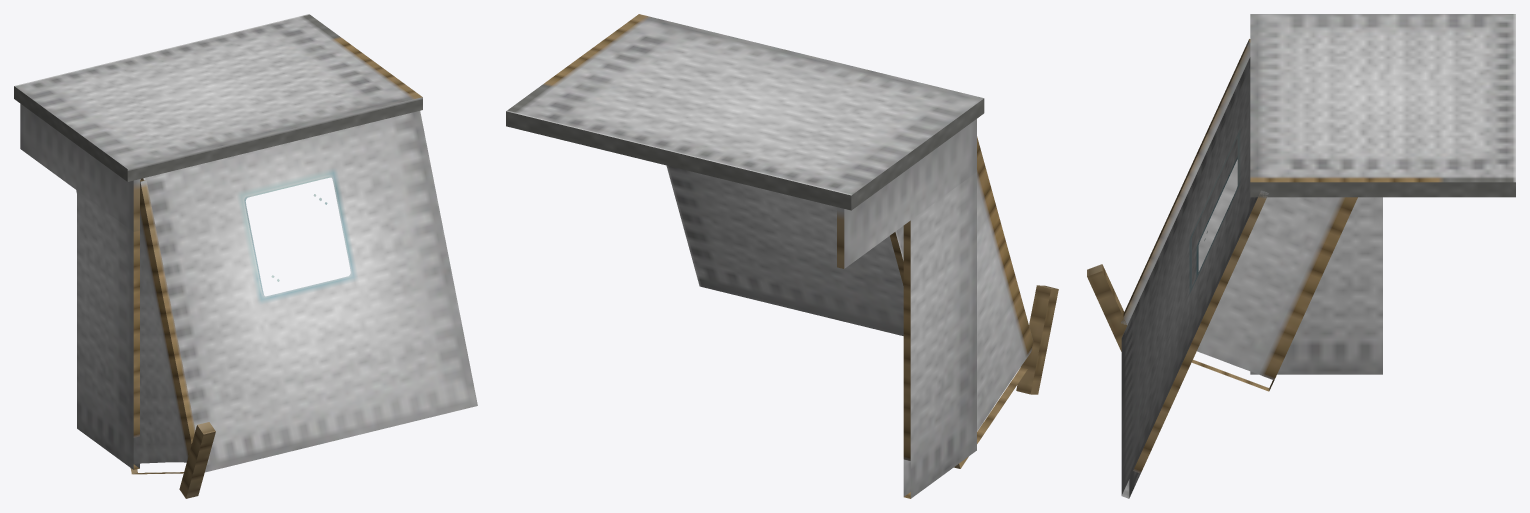
Rendered from tentPart4.obj.
3 renders of one model, left to right at view 1: azimuth 30°, elevation 25°; view 2: azimuth 150°, elevation 25°; view 3: azimuth 270°, elevation 25°, orthographic. The views are drawn at different scales.
Parts seen in each view (by area): view 1: cube; view 2: cube; view 3: cube.
Part boxes in pixels (x1,y1,x2,y2): cube: (14, 14, 477, 498); cube: (506, 14, 1058, 498); cube: (1087, 14, 1515, 498).
Size of the model in its own units: 3 by 3.05 by 3.23.
1 material, 1 textured.
